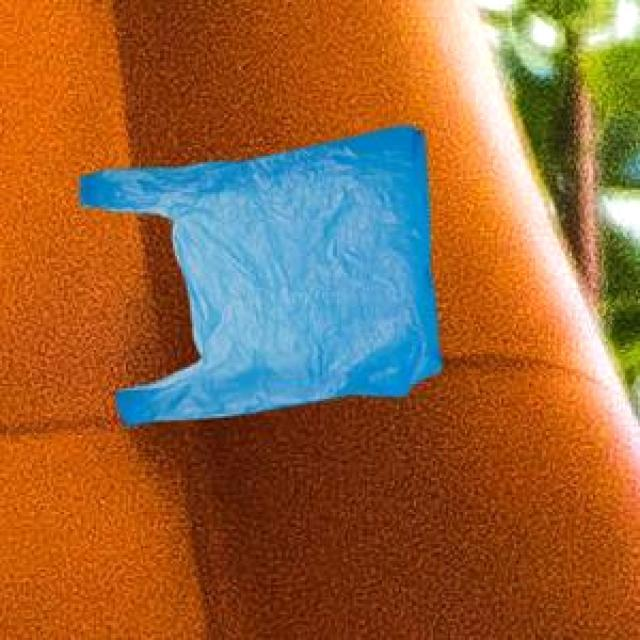Plastic_Bag: (76, 122, 438, 422)
